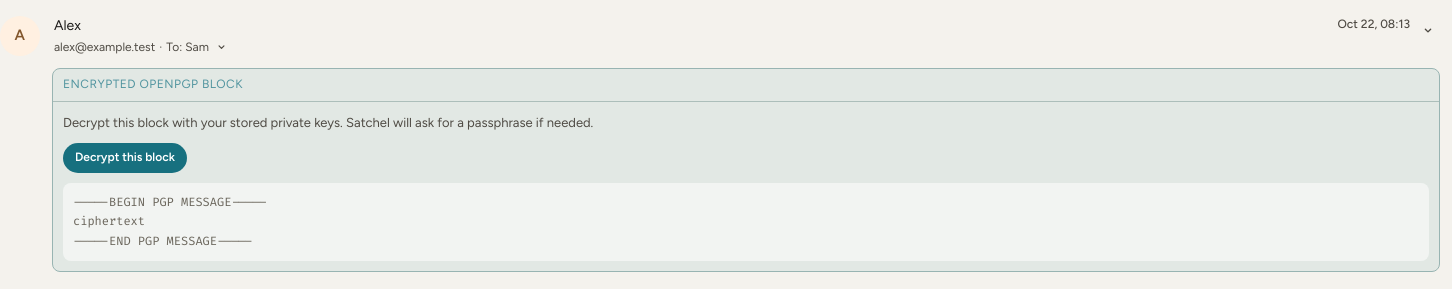
Test case: decrypts a cached message from its button even when the plugin supplied no PGP status
The width and height of the screenshot is (1452, 289).
Click the button "Decrypt this block". click: click(125, 158)
box: [63,143,187,173]
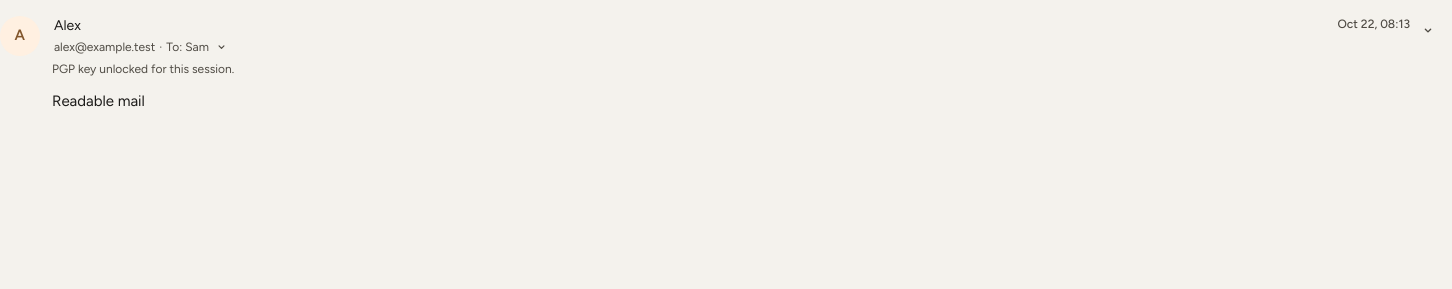
Check: the text "Readable mail" is shown, box [52,92,145,110]
Check: the text "BEGIN PGP MESSAGE" is gone
